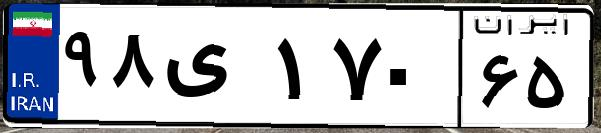0: (385, 28, 445, 110)
1: (270, 28, 330, 110)
5: (525, 38, 570, 115)
6: (475, 38, 525, 113)
7: (330, 28, 385, 110)
8: (110, 28, 158, 98)
9: (57, 26, 110, 100)
ی: (158, 20, 270, 120)
